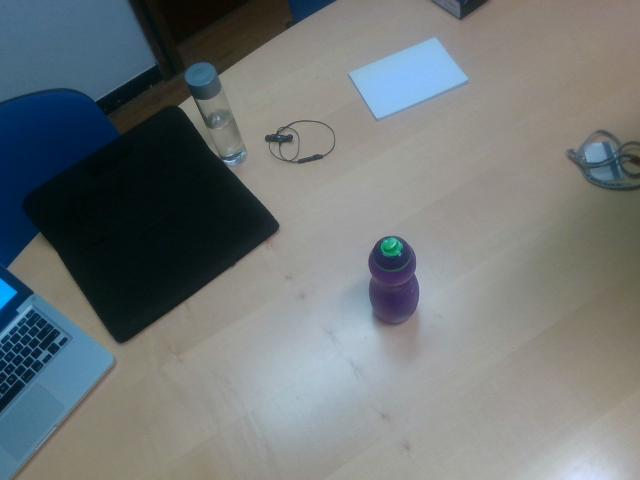bottle: (368, 233, 420, 327)
